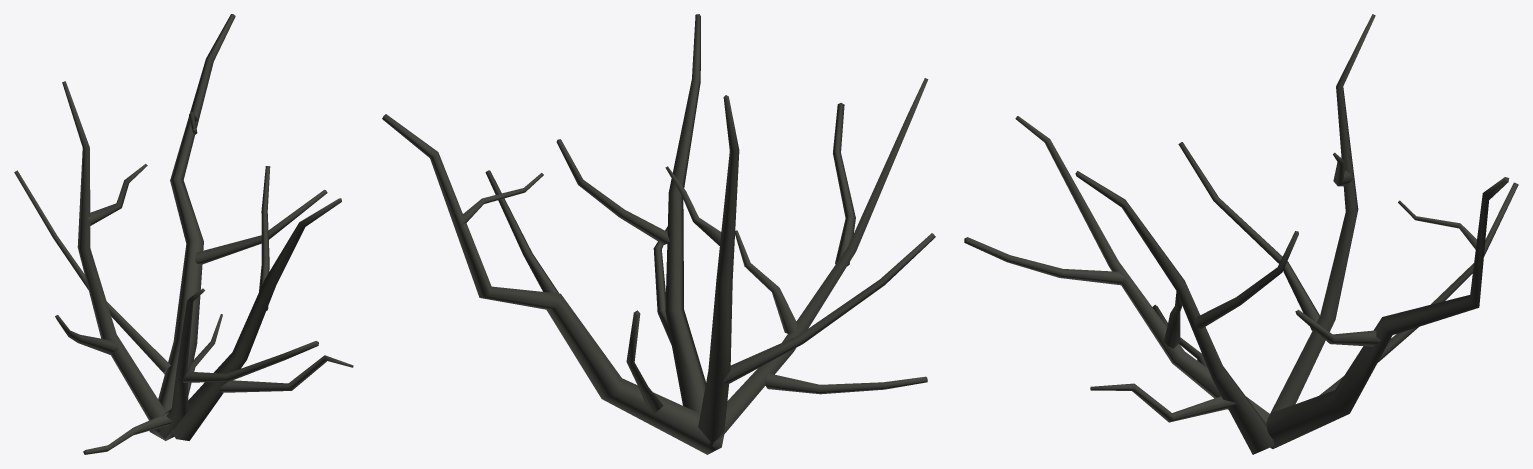
File: bush_1.fbx
The picture shows the model from 3 angles, left to right: view 1: azimuth 30°, elevation 25°; view 2: azimuth 150°, elevation 25°; view 3: azimuth 270°, elevation 25°; orthographic projection. The views are drawn at different scales.
Parts seen in each view (by area): view 1: bush_1; view 2: bush_1; view 3: bush_1.
Part boxes in pixels (x1=…): bush_1: x1=14, y1=14, x2=353, y2=454; bush_1: x1=382, y1=14, x2=935, y2=454; bush_1: x1=964, y1=14, x2=1518, y2=454.
Size of the model in its own units: 3.67 by 3.74 by 4.69.
